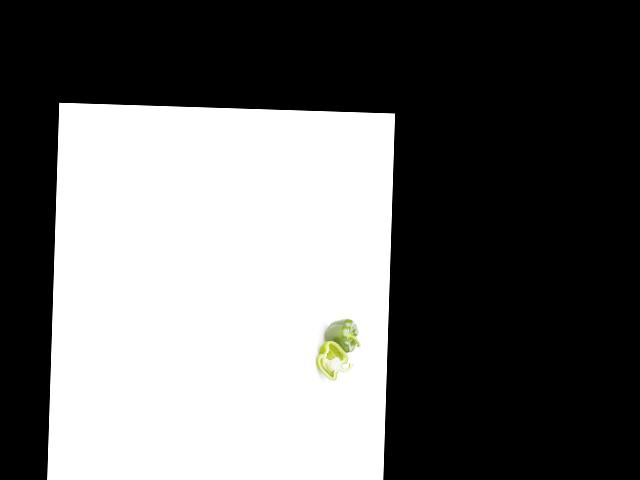bell_pepper: (316, 339, 355, 383)
